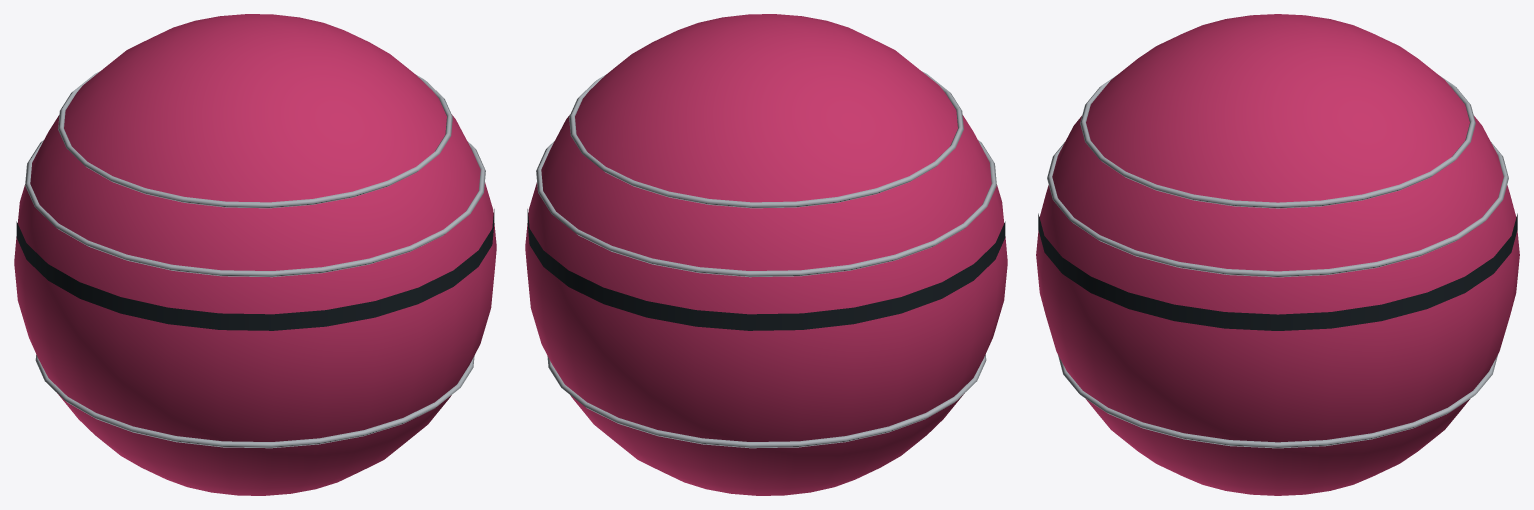
File: PEARL_SPHERE_LOW.glb
The picture shows the model from 3 angles, left to right: view 1: azimuth 30°, elevation 25°; view 2: azimuth 150°, elevation 25°; view 3: azimuth 270°, elevation 25°; orthographic projection.
Parts seen in each view (by area): view 1: carPaint_0, steel_2, glass_1; view 2: carPaint_0, steel_2, glass_1; view 3: carPaint_0, steel_2, glass_1.
Part boxes in pixels (x1,y1,x2,y2): carPaint_0: (14,14,496,495); steel_2: (25,71,485,448); glass_1: (16,209,494,330); carPaint_0: (525,14,1007,495); steel_2: (536,71,996,448); glass_1: (527,209,1005,330); carPaint_0: (1036,14,1519,495); steel_2: (1047,75,1508,448); glass_1: (1038,213,1517,330).
Bounding box in the file's own units: 10 × 10 × 10.
